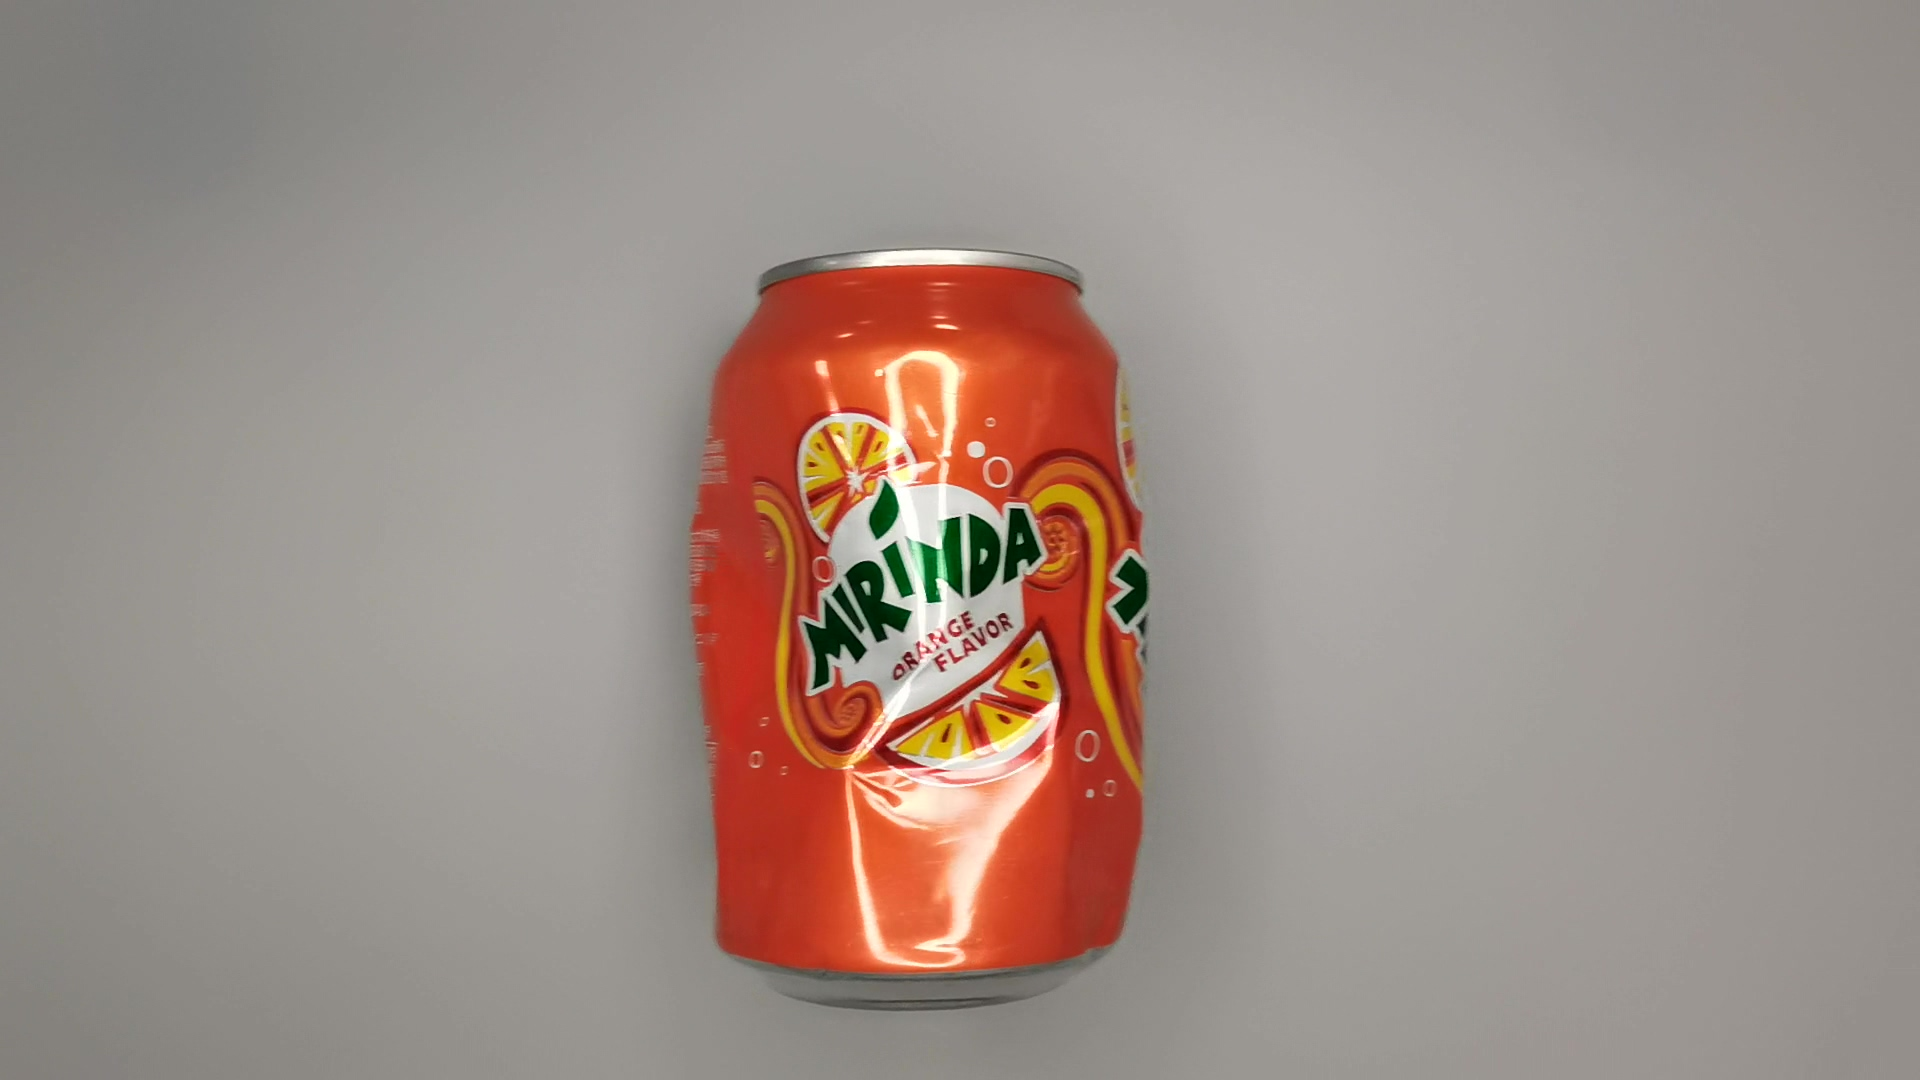can: (667, 237, 1168, 1011)
